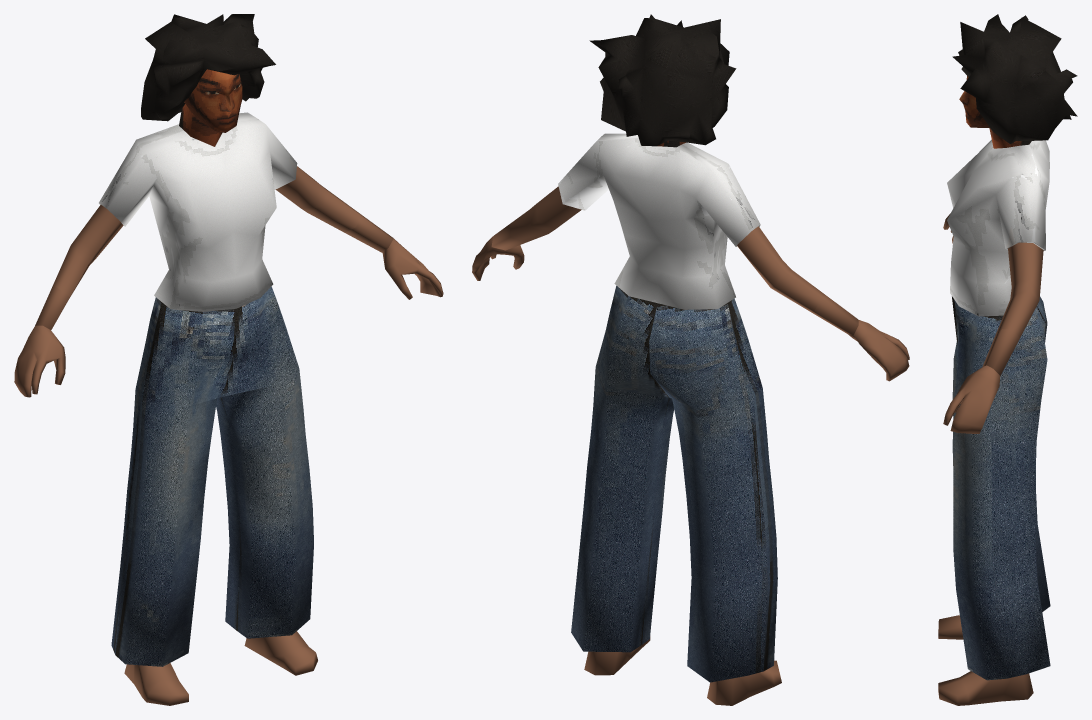
File: assetstest.glb
3 views of the same model, side by side, from view 1: azimuth 30°, elevation 25°; view 2: azimuth 150°, elevation 25°; view 3: azimuth 270°, elevation 25° (orthographic). The views are drawn at different scales.
Parts seen in each view (by area): view 1: PantMeshMere, CharacterMeshBody.002, CharacterMeshBody, HairMere, CharacterMeshBody.001; view 2: PantMeshMere, CharacterMeshBody.002, HairMere, CharacterMeshBody; view 3: PantMeshMere, CharacterMeshBody.002, HairMere, CharacterMeshBody, CharacterMeshBody.001.
Boxes of the visible parts, x1,y1,x2,y2 form: PantMeshMere: (111,286,313,666); CharacterMeshBody.002: (99,112,297,311); CharacterMeshBody: (14,166,443,705); HairMere: (141,14,275,121); CharacterMeshBody.001: (179,69,242,146); PantMeshMere: (571,286,777,682); CharacterMeshBody.002: (558,133,760,309); HairMere: (589,14,736,146); CharacterMeshBody: (472,186,909,705); PantMeshMere: (952,296,1050,680); CharacterMeshBody.002: (947,140,1049,316); HairMere: (952,14,1077,144); CharacterMeshBody: (938,213,1043,705); CharacterMeshBody.001: (959,76,1031,148).
Bounding box in the file's own units: 16.34 × 24.28 × 4.81.
Materials: 5 (5 with a texture image).
